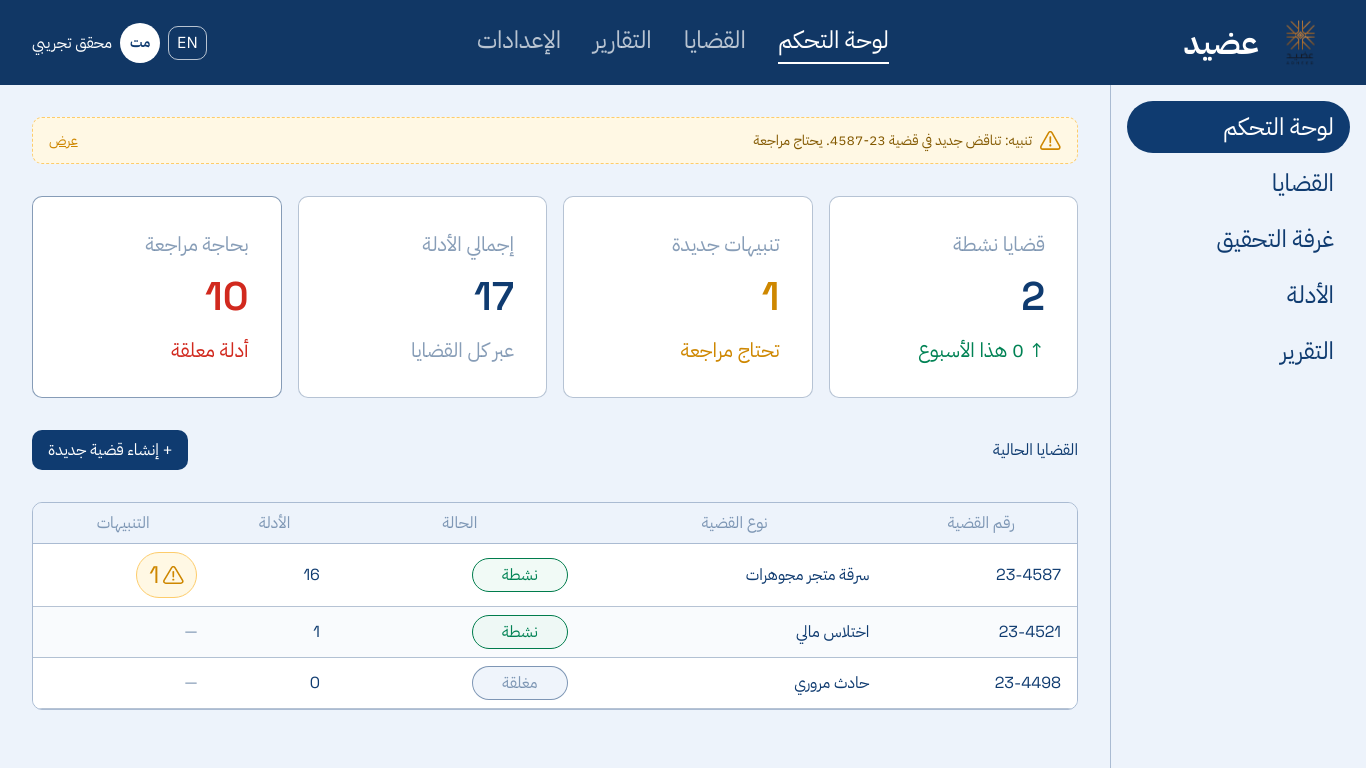
Scenario: dashboard › renders the seeded cases and opens a case from its row
Expected: the cell "23-4587" is shown, x1=885 y1=544 x2=1077 y2=606
Expected: the cell "23-4521" is shown, x1=885 y1=606 x2=1077 y2=658
Click the row "23-4587 سرقة متجر مجوهرات نشطة 16 1" at (555, 575), box x1=33 y1=544 x2=1077 y2=606
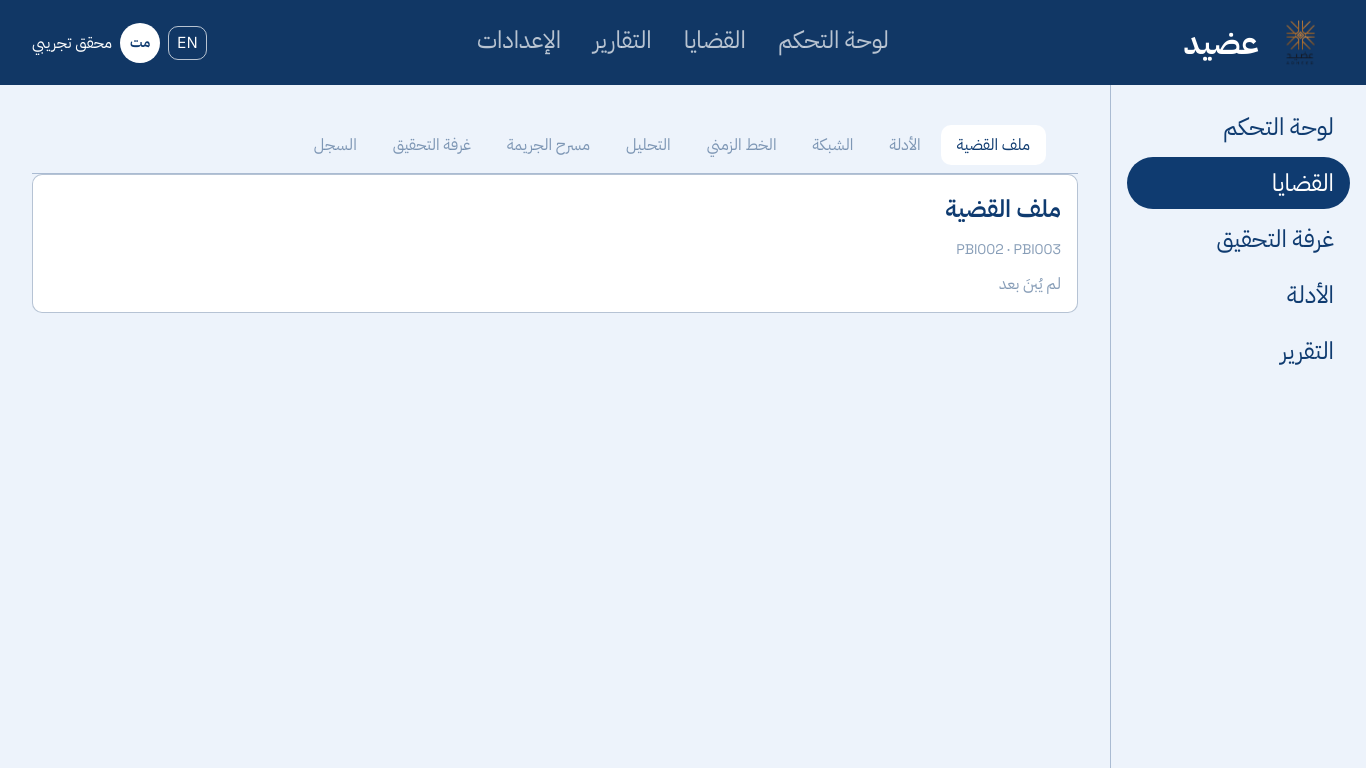
Now the heading "ملف القضية" is shown, box x1=945 y1=191 x2=1061 y2=227
